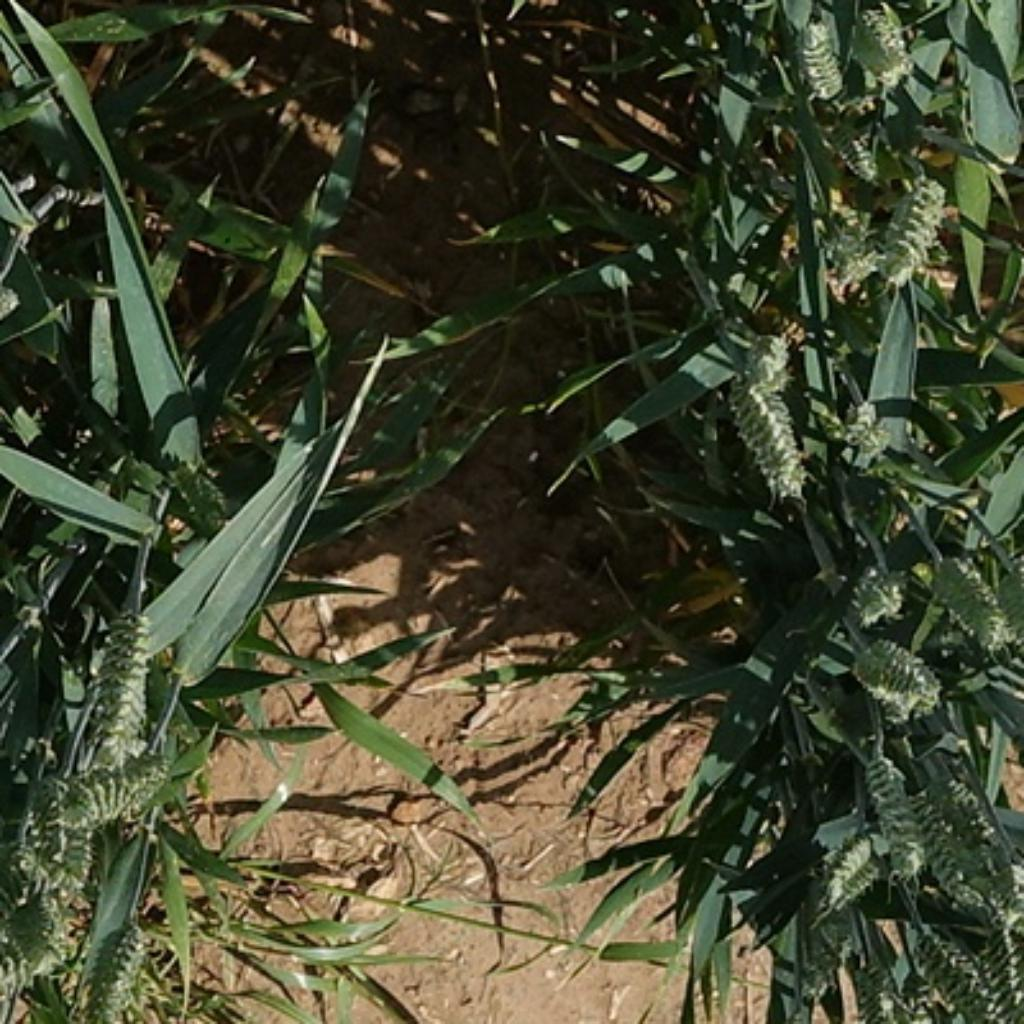0-0: (704, 371, 808, 499), (79, 601, 158, 757), (901, 791, 1000, 913), (860, 163, 949, 291), (25, 770, 97, 896), (919, 922, 1006, 1024), (926, 550, 1018, 645), (865, 755, 934, 872), (64, 755, 166, 834), (844, 627, 939, 711), (81, 922, 157, 1024), (10, 852, 71, 977), (834, 0, 916, 87), (921, 778, 1013, 852), (811, 194, 885, 284), (816, 824, 896, 906), (783, 15, 855, 97), (803, 903, 853, 1017), (842, 555, 913, 622), (983, 546, 1024, 654), (834, 399, 890, 465), (858, 953, 904, 1024), (829, 128, 885, 184), (742, 327, 793, 384), (897, 965, 946, 1023)
